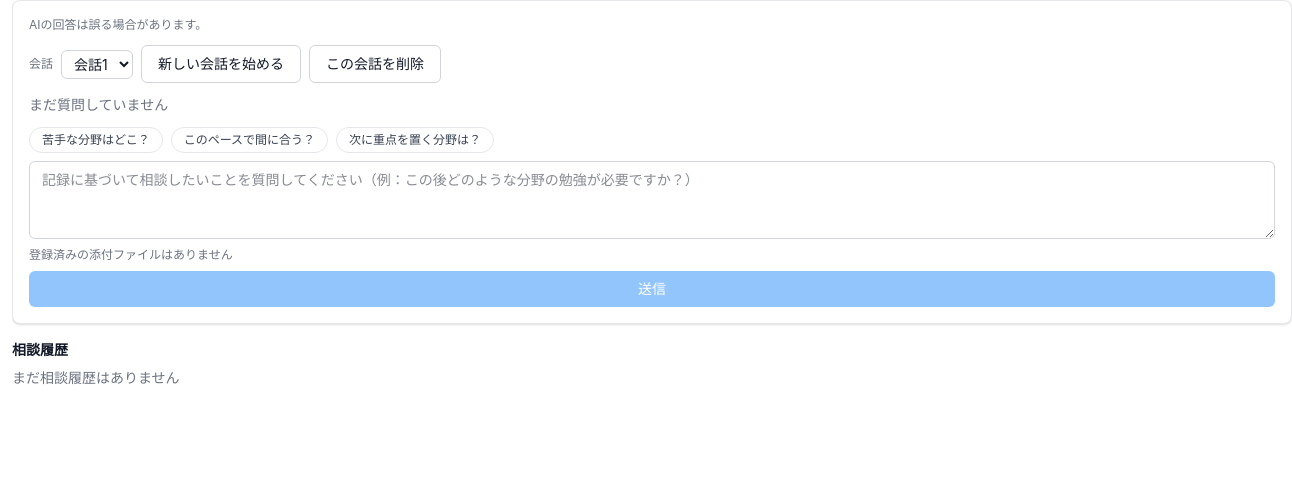
Test case: GoalConsultationTab › それ以外の通信エラーは汎用の失敗文言を出す
Type "質問" into the text box labelled "記録に基づいて相談したいことを質問してください（例：この後どのような分野の勉強が必要ですか？）" at (652,200), box [29,161,1275,239]
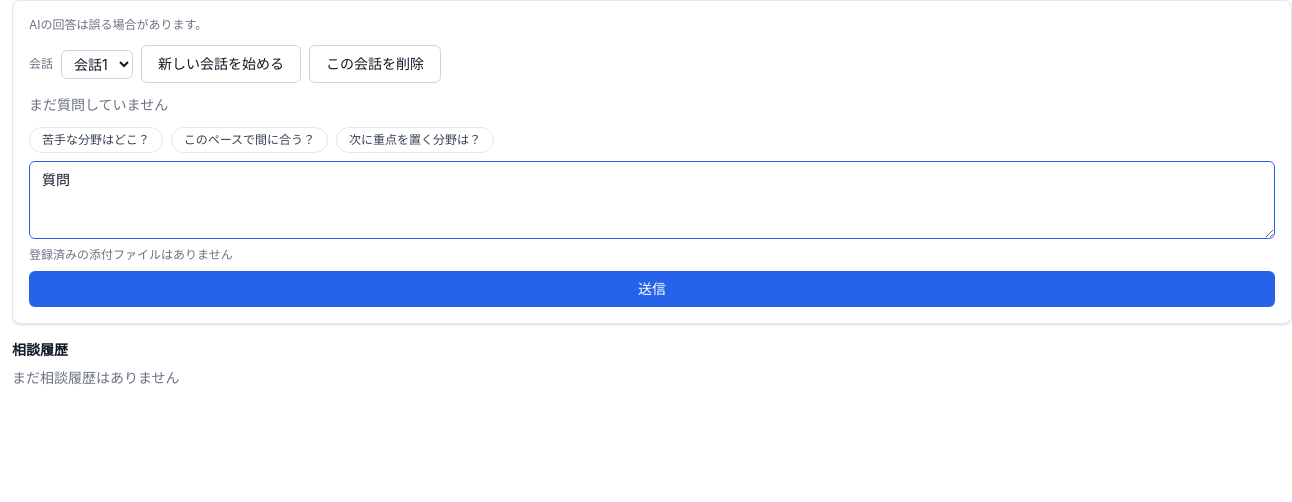
Click the button "送信" at (652,289), box [29,271,1275,307]
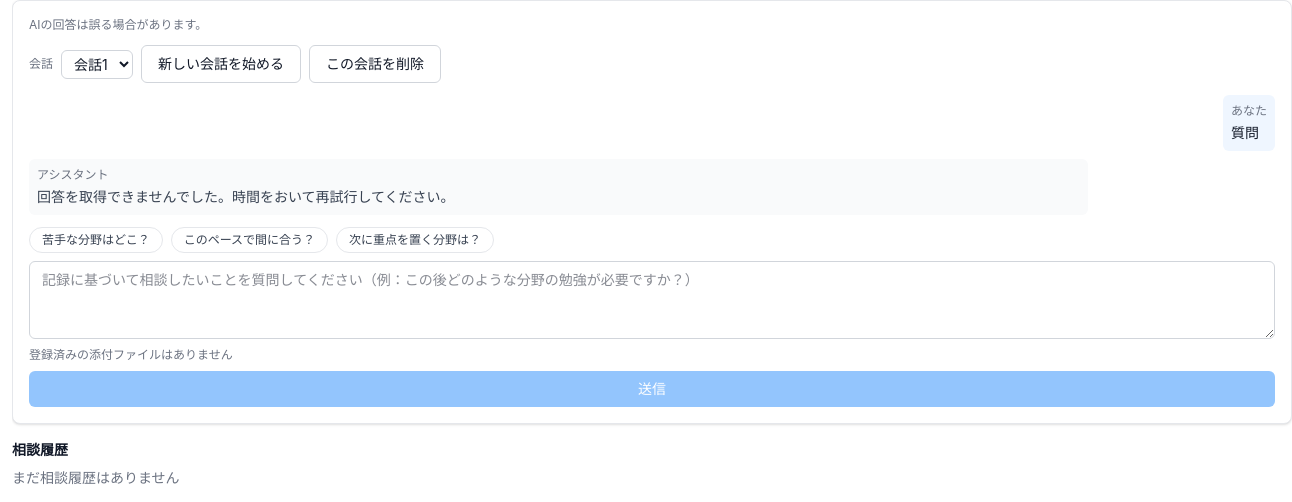
Result: the text "回答を取得できませんでした。時間をおいて再試行してください。" is shown at [37,188,455,205]
